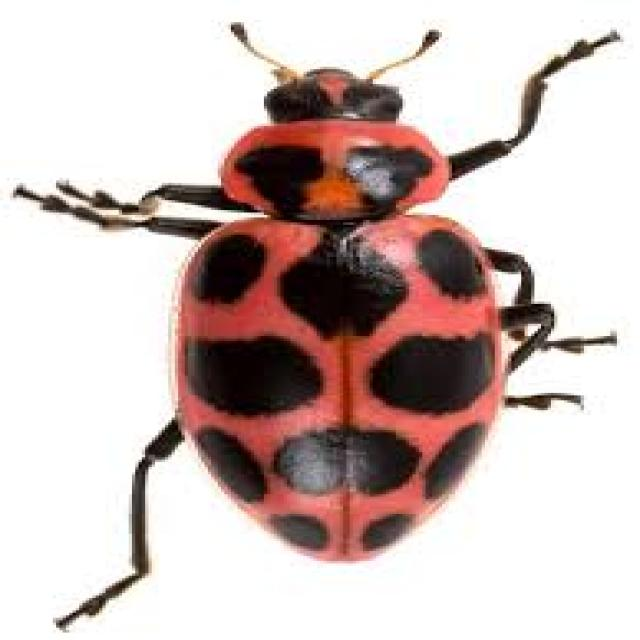bug: (4, 0, 630, 636)
